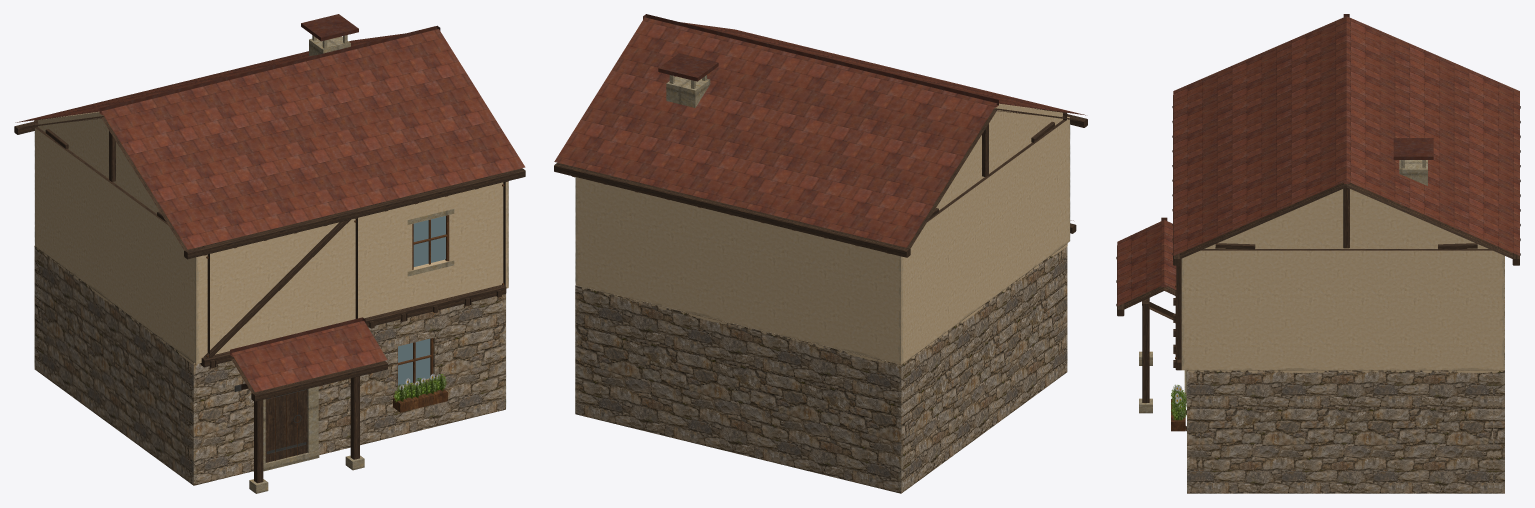
File: B21_vivienda.gltf
3 views of the same model, side by side, from view 1: azimuth 30°, elevation 25°; view 2: azimuth 150°, elevation 25°; view 3: azimuth 270°, elevation 25° (orthographic). The views are drawn at different scales.
Parts seen in each view (by area): view 1: AUR034_B21_clay_tiles, B21_runtime_static_113, AUR034_B21_lower_masonry, B21_runtime_static_000, AUR034_B21_porch_clay_tiles, B21_runtime_static_076, B21_runtime_static_091, AUR034_B21_entry_leaf0, B21_runtime_static_093, AUR034_B21_window1_glazing, AUR034_B21_window0_glazing, B21_herbs_0; view 2: AUR034_B21_lower_masonry, B21_runtime_static_113, AUR034_B21_clay_tiles, B21_runtime_static_000, B21_runtime_static_091, B21_plaster_stone_joint_wear, B21_runtime_static_076; view 3: AUR034_B21_clay_tiles, B21_runtime_static_113, AUR034_B21_lower_masonry, B21_runtime_static_000, AUR034_B21_porch_clay_tiles, B21_runtime_static_076, B21_runtime_static_091, B21_plaster_stone_joint_wear, B21_herbs_0.
Part boxes in pixels (x1,y1,x2,y2): AUR034_B21_clay_tiles: [15, 29, 525, 249]; B21_runtime_static_113: [35, 111, 508, 363]; AUR034_B21_lower_masonry: [34, 246, 505, 485]; B21_runtime_static_000: [14, 116, 525, 483]; AUR034_B21_porch_clay_tiles: [227, 320, 387, 392]; B21_runtime_static_076: [249, 35, 454, 493]; B21_runtime_static_091: [99, 14, 440, 356]; AUR034_B21_entry_leaf0: [265, 389, 307, 462]; B21_runtime_static_093: [206, 184, 504, 460]; AUR034_B21_window1_glazing: [413, 216, 445, 266]; AUR034_B21_window0_glazing: [398, 338, 430, 385]; B21_herbs_0: [394, 374, 446, 402]; AUR034_B21_lower_masonry: [575, 243, 1067, 493]; B21_runtime_static_113: [575, 103, 1069, 364]; AUR034_B21_clay_tiles: [554, 17, 1085, 247]; B21_runtime_static_000: [554, 108, 1087, 257]; B21_runtime_static_091: [643, 14, 998, 107]; B21_plaster_stone_joint_wear: [581, 241, 1069, 366]; B21_runtime_static_076: [666, 75, 710, 107]; AUR034_B21_clay_tiles: [1173, 16, 1519, 255]; B21_runtime_static_113: [1181, 189, 1504, 370]; AUR034_B21_lower_masonry: [1187, 256, 1504, 493]; B21_runtime_static_000: [1116, 95, 1520, 431]; AUR034_B21_porch_clay_tiles: [1117, 220, 1176, 306]; B21_runtime_static_076: [1139, 160, 1427, 413]; B21_runtime_static_091: [1161, 14, 1433, 287]; B21_plaster_stone_joint_wear: [1186, 368, 1502, 373]; B21_herbs_0: [1171, 384, 1186, 420].
Size of the model in its own units: 8.96 by 8.18 by 9.29.
14 materials, 13 textured.
